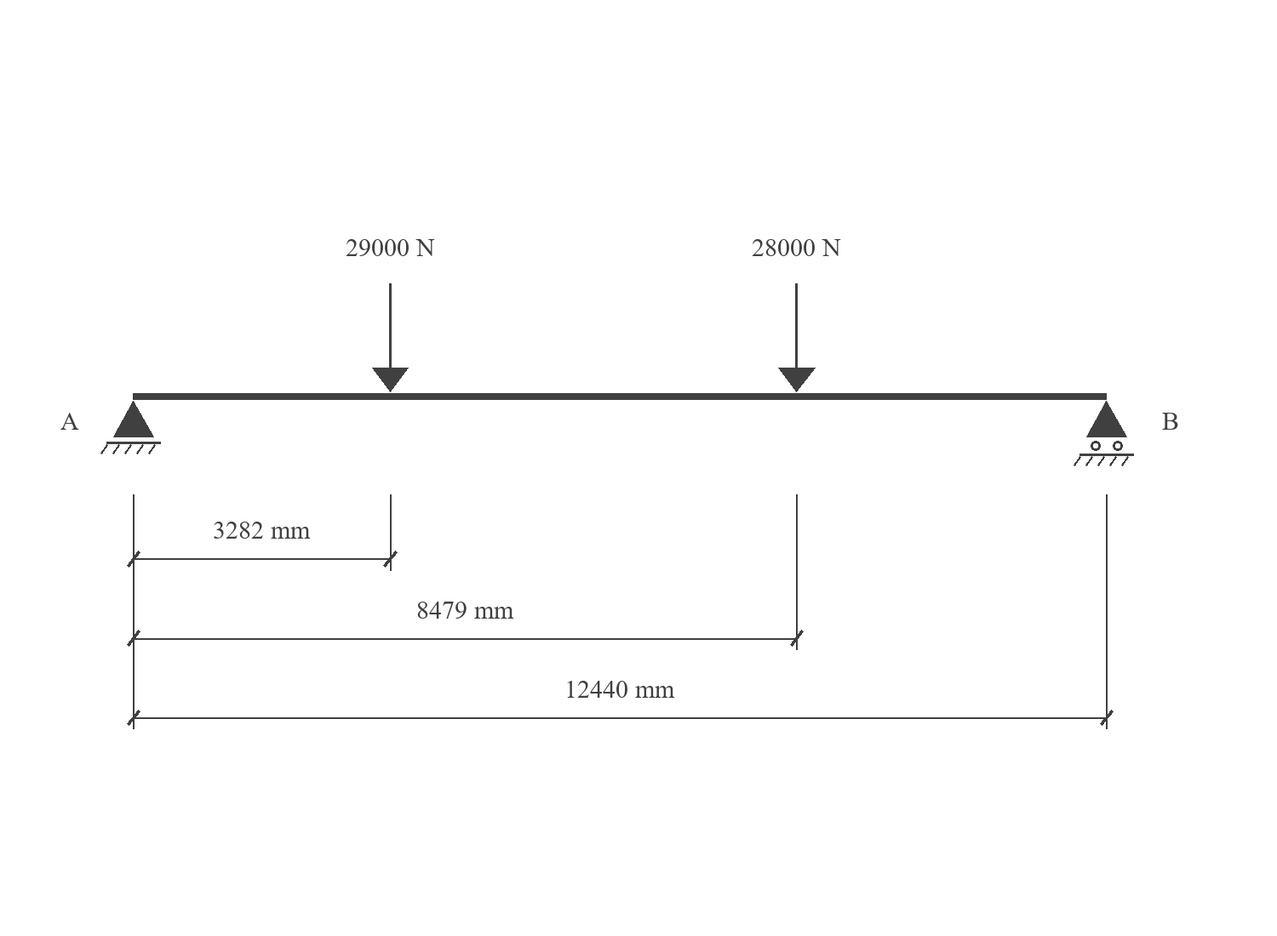pin_support: (100, 401, 161, 454)
point_load: (778, 283, 816, 392), (372, 283, 409, 392)
roller_support: (1074, 401, 1134, 466)
